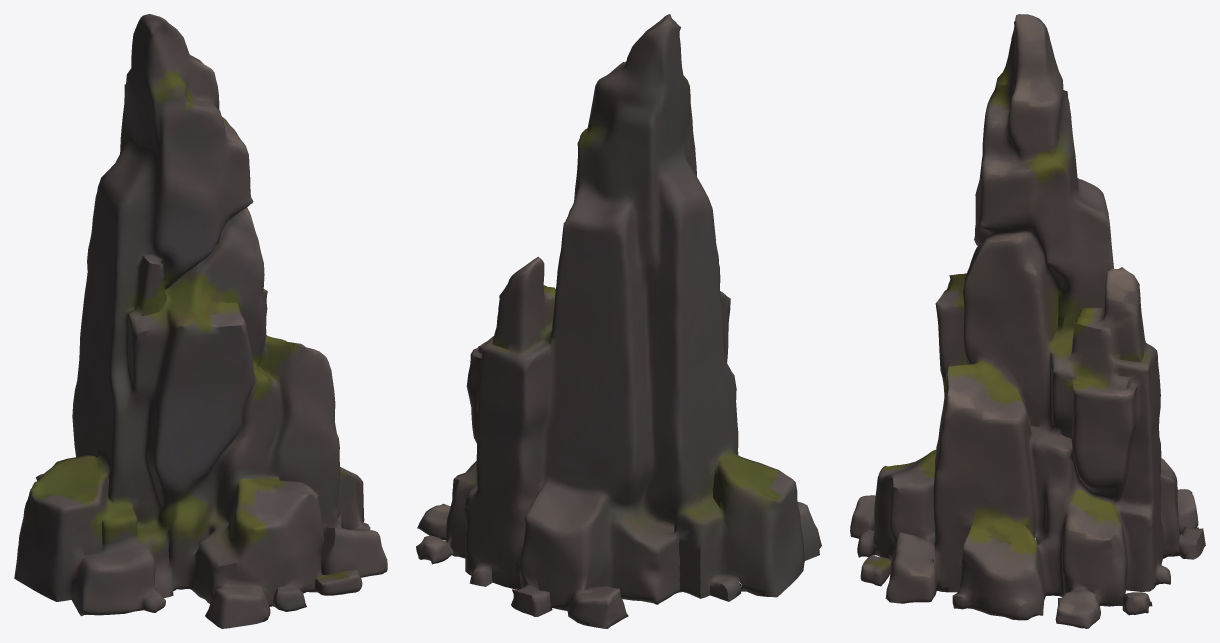
Rendered from rock_spire.glb.
The picture shows the model from 3 angles, left to right: view 1: azimuth 30°, elevation 25°; view 2: azimuth 150°, elevation 25°; view 3: azimuth 270°, elevation 25°; orthographic projection. The views are drawn at different scales.
Visible parts, largest first — view 1: tripo_node_e5597b53; view 2: tripo_node_e5597b53; view 3: tripo_node_e5597b53.
Part boxes in pixels (x1=…): tripo_node_e5597b53: x1=14, y1=14, x2=387, y2=628; tripo_node_e5597b53: x1=416, y1=14, x2=821, y2=628; tripo_node_e5597b53: x1=850, y1=14, x2=1205, y2=628.
Size of the model in its own units: 66.01 by 99.83 by 62.56.
Materials: 1 (1 with a texture image).
